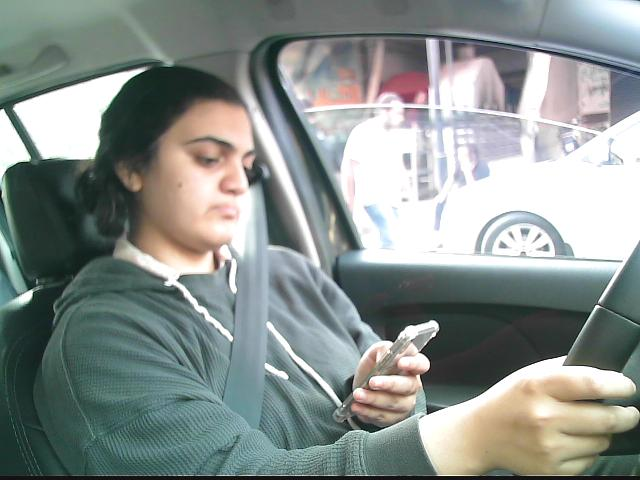PhoneUse: (333, 315, 442, 424)
